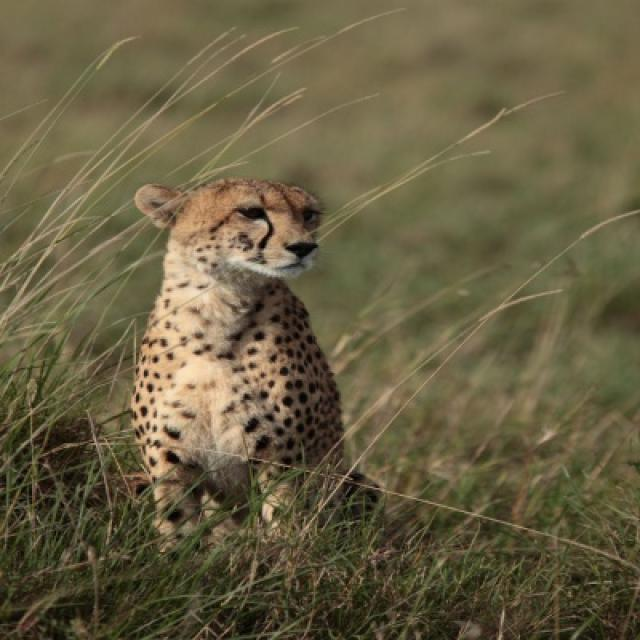Cheetah: (131, 168, 377, 556)
